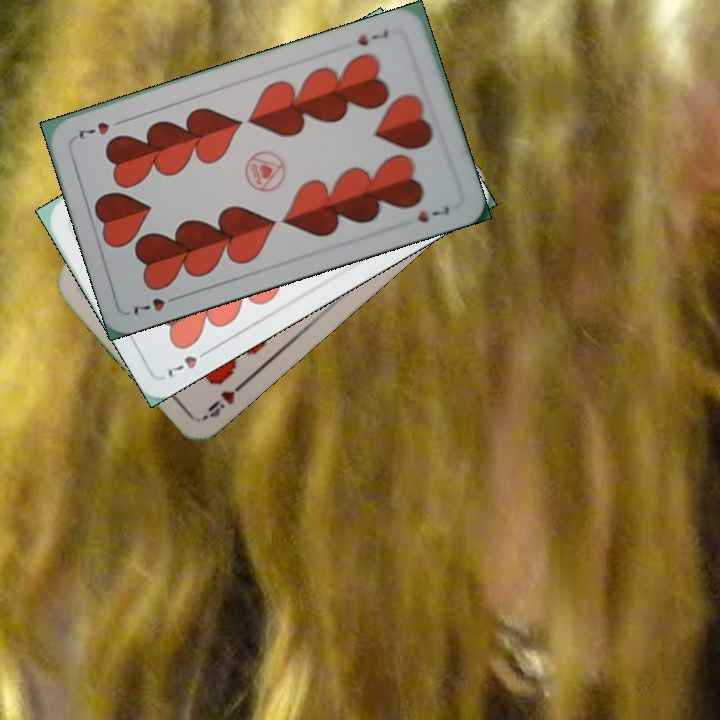H7: (163, 344, 215, 380), (129, 291, 185, 317), (353, 26, 391, 49)
H9: (199, 377, 248, 422)
